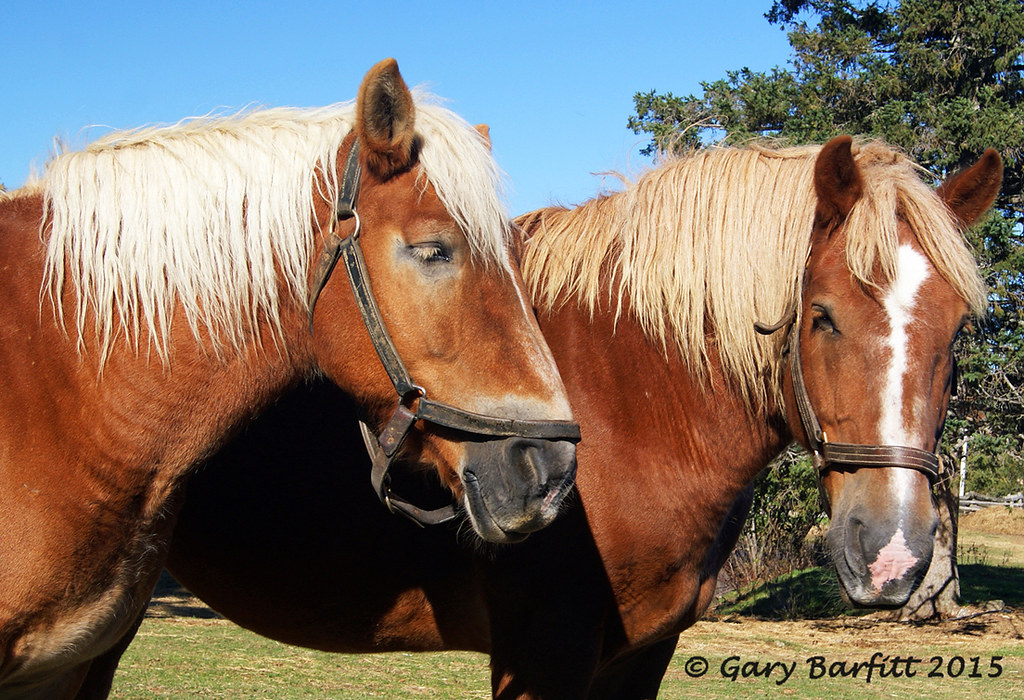horse: (3, 53, 582, 671), (526, 59, 1006, 633)
